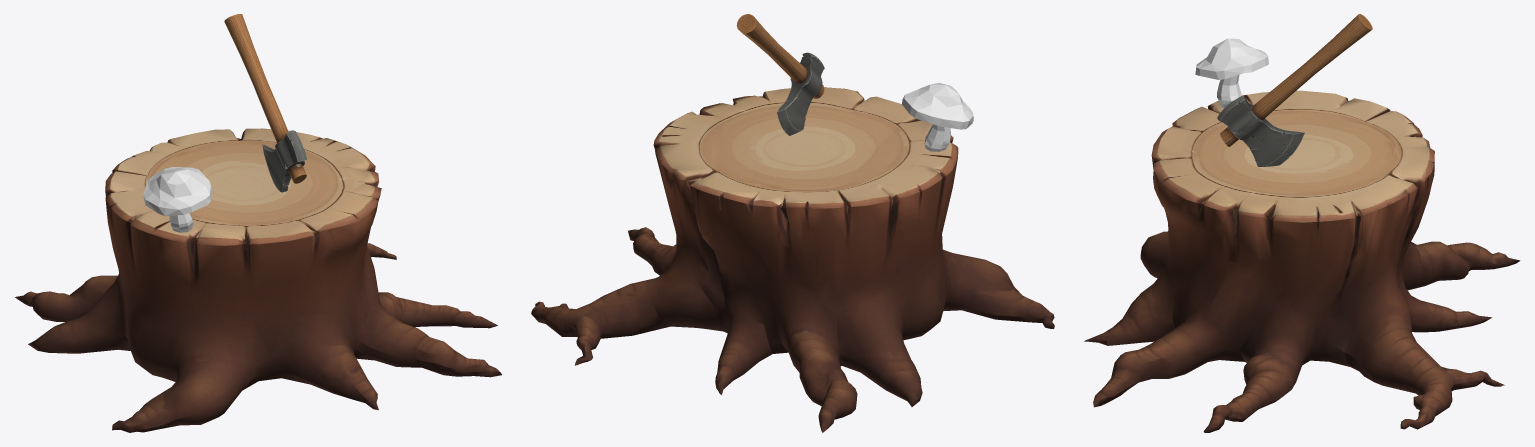
File: Logging.fbx
The picture shows the model from 3 angles, left to right: view 1: azimuth 30°, elevation 25°; view 2: azimuth 150°, elevation 25°; view 3: azimuth 270°, elevation 25°; orthographic projection. The views are drawn at different scales.
Visible parts, largest first — view 1: Logging_LOD0; view 2: Logging_LOD0; view 3: Logging_LOD0.
Boxes of the visible parts, x1,y1,x2,y2 form: Logging_LOD0: (15,14,501,432); Logging_LOD0: (531,14,1054,432); Logging_LOD0: (1084,14,1520,432).
Size of what is drawn, in the model's own units: 299 by 223 by 272.
3 materials, 2 textured.
